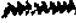Water: (2, 1, 76, 19)
